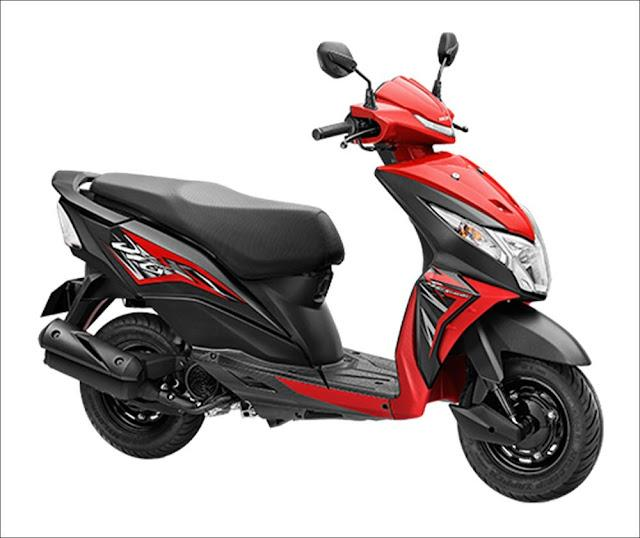motorbike: (39, 32, 603, 503)
